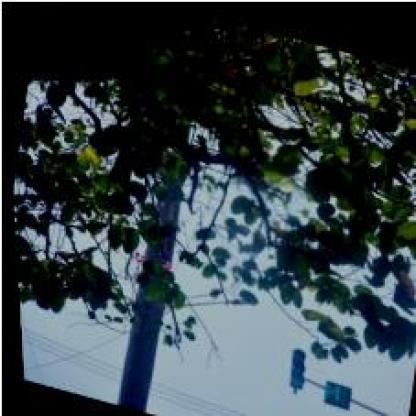green: (280, 341, 304, 385)
